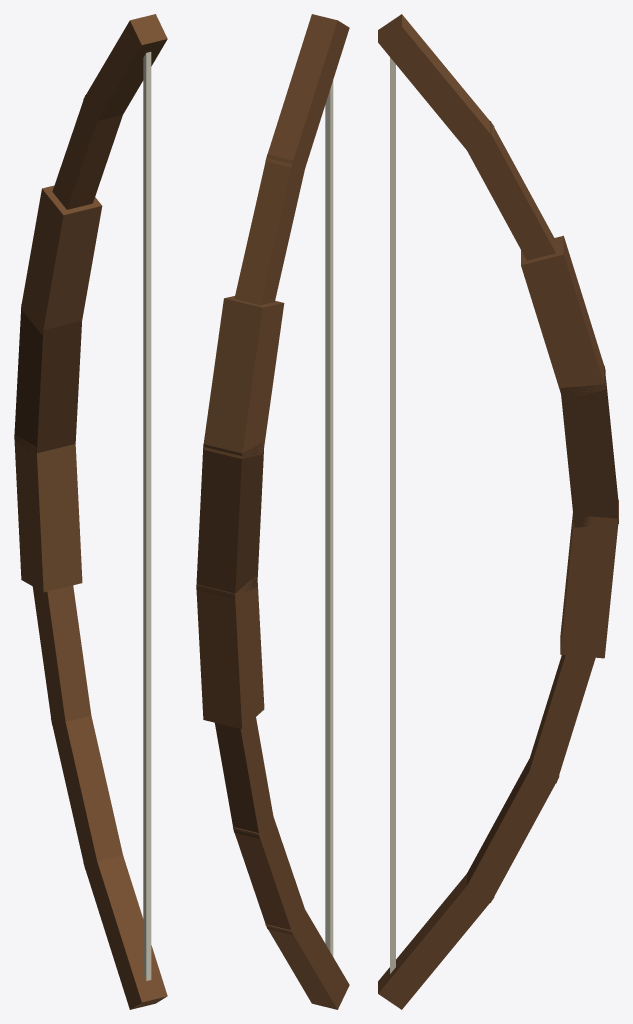
File: arc.glb
3 views of the same model, side by side, from view 1: azimuth 30°, elevation 25°; view 2: azimuth 150°, elevation 25°; view 3: azimuth 270°, elevation 25° (orthographic).
Visible parts, largest first — view 1: Bois3, Corde, Bois5, Bois4, Bois1, Bois0, Bois2, Bois7, Bois6; view 2: Bois5, Bois4, Bois3, Corde, Bois7, Bois6, Bois2, Bois1, Bois0; view 3: Bois5, Bois3, Bois4, Bois7, Corde, Bois0, Bois1, Bois6, Bois2.
Part boxes in pixels (x1,y1,x2,y2): Bois3: (14,434,82,592); Corde: (143,52,151,980); Bois5: (21,185,102,334); Bois4: (14,304,81,454); Bois1: (51,716,122,869); Bois0: (83,855,167,1009); Bois2: (32,585,91,726); Bois7: (83,14,167,120); Bois6: (52,95,122,209); Bois5: (203,296,284,458); Bois4: (196,442,264,599); Bois3: (196,576,264,729); Corde: (325,80,333,956); Bois7: (265,14,349,173); Bois6: (234,154,306,305); Bois2: (215,717,272,838); Bois1: (233,812,305,934); Bois0: (265,906,349,1009); Bois5: (521,235,605,395); Bois3: (560,500,618,658); Bois4: (560,366,618,527); Bois7: (378,14,494,152); Corde: (390,57,395,973); Bois0: (378,874,494,1009); Bois1: (467,759,559,902); Bois6: (464,121,555,260); Bois2: (529,655,595,783).
Bounding box in the file's own units: 0.045 × 1.1 × 0.2434.
